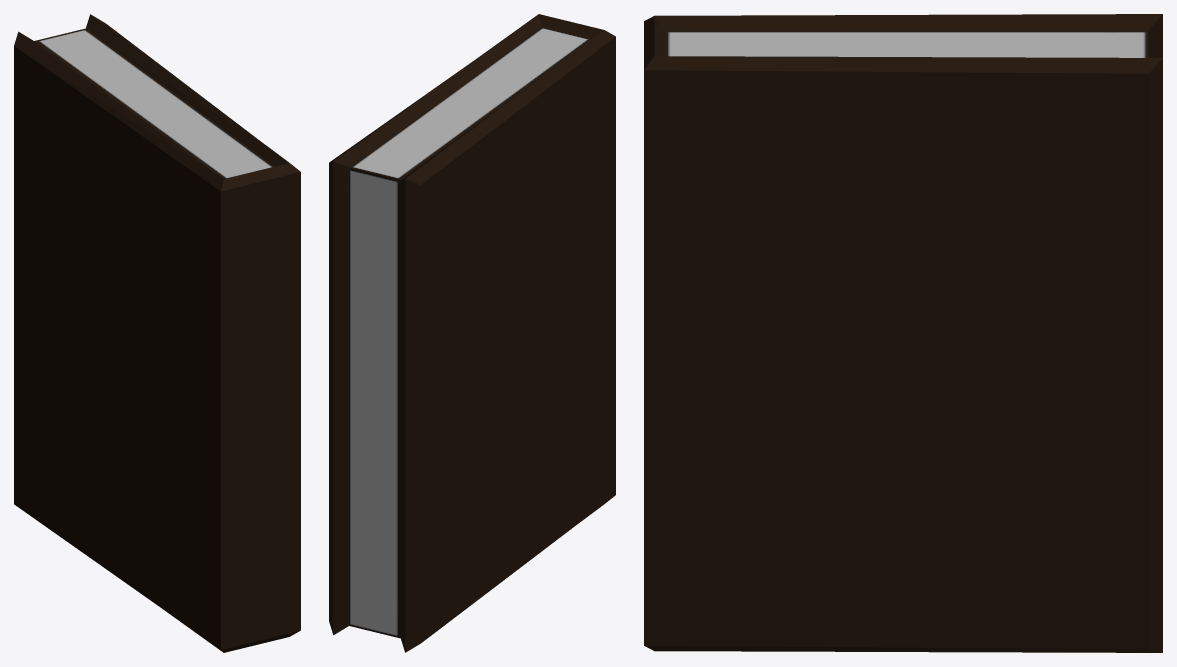
Rendered from book.FBX.
The picture shows the model from 3 angles, left to right: view 1: azimuth 30°, elevation 25°; view 2: azimuth 150°, elevation 25°; view 3: azimuth 270°, elevation 25°; orthographic projection. The views are drawn at different scales.
Visible parts, largest first — view 1: book; view 2: book; view 3: book.
Boxes of the visible parts, x1=… form: book: x1=14, y1=14, x2=300, y2=652; book: x1=329, y1=14, x2=615, y2=652; book: x1=644, y1=14, x2=1162, y2=652.
Bounding box in the file's own units: 4 × 19.71 × 15.58.
